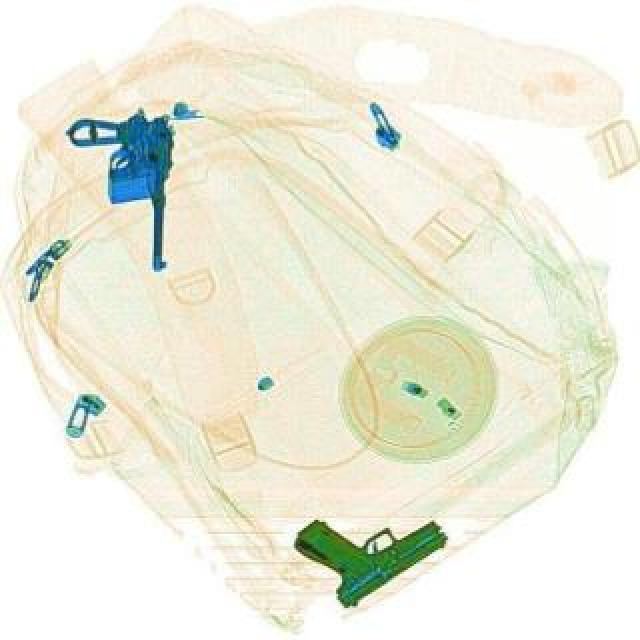gun: (282, 464, 454, 612), (58, 100, 174, 272)
